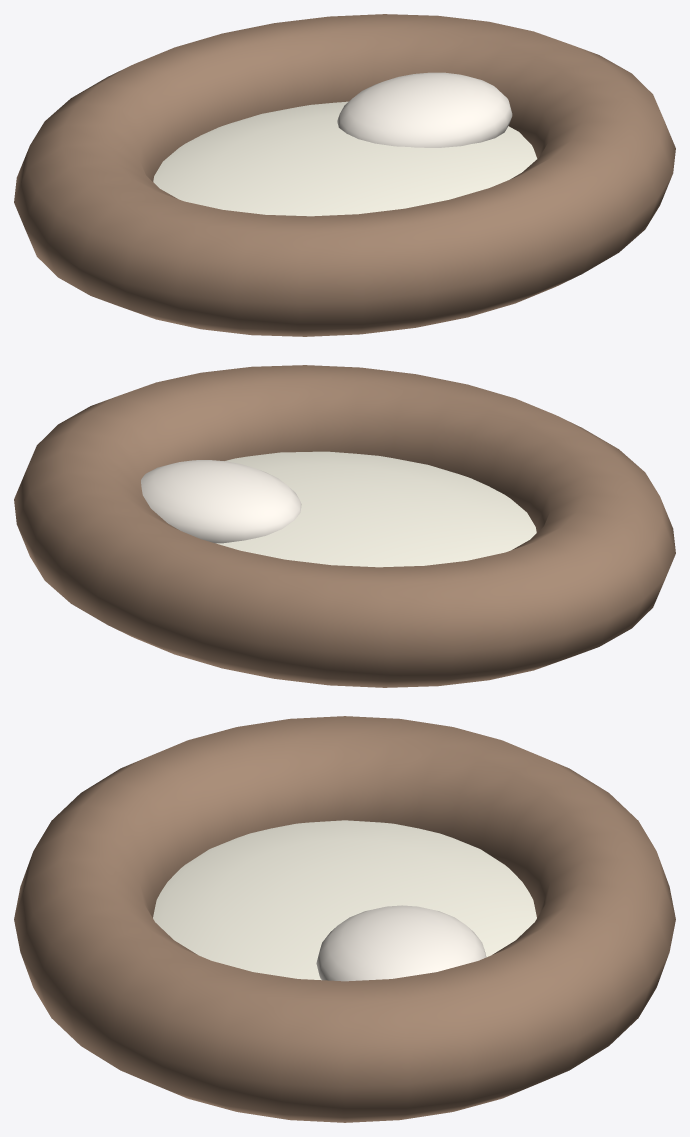
The model's file is bed-brown.glb.
3 renders of one model, top to bottom at view 1: azimuth 30°, elevation 25°; view 2: azimuth 150°, elevation 25°; view 3: azimuth 270°, elevation 25°, orthographic. The views are drawn at different scales.
Parts seen in each view (by area): view 1: Soft bed rim, Pet bed cushion, Little pillow; view 2: Soft bed rim, Pet bed cushion, Little pillow; view 3: Soft bed rim, Pet bed cushion, Little pillow.
Boxes of the visible parts, x1,y1,x2,y2 form: Soft bed rim: (14, 14, 675, 336); Pet bed cushion: (153, 101, 537, 216); Little pillow: (337, 72, 512, 147); Soft bed rim: (14, 365, 675, 687); Pet bed cushion: (216, 451, 536, 567); Little pillow: (141, 460, 301, 543); Soft bed rim: (14, 716, 675, 1122); Pet bed cushion: (153, 820, 536, 980); Little pillow: (316, 905, 486, 981).
Bounding box in the file's own units: 1.94 × 0.4417 × 1.62.
